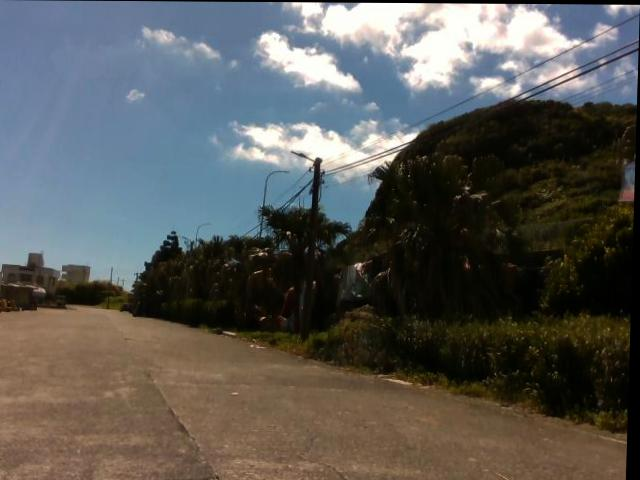pollute: (271, 253, 382, 335)
